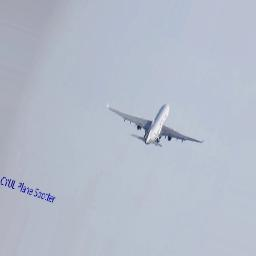Airplane: (104, 101, 206, 150)
